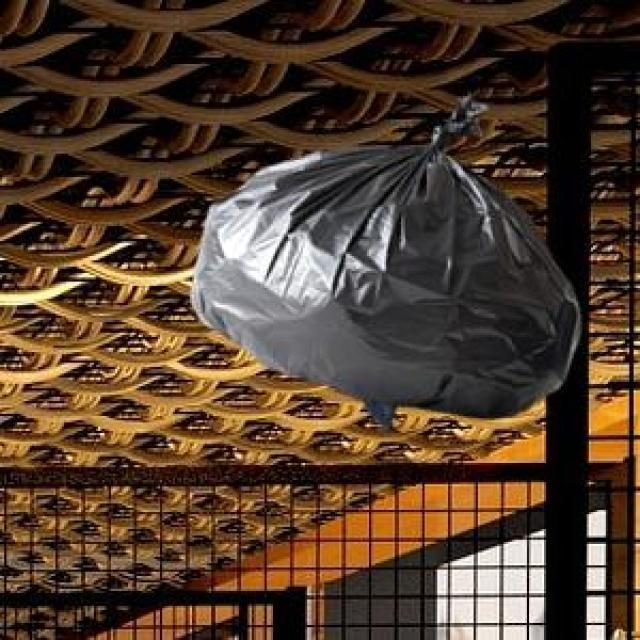miscellaneous trash: (188, 90, 576, 414), (360, 397, 393, 427)
